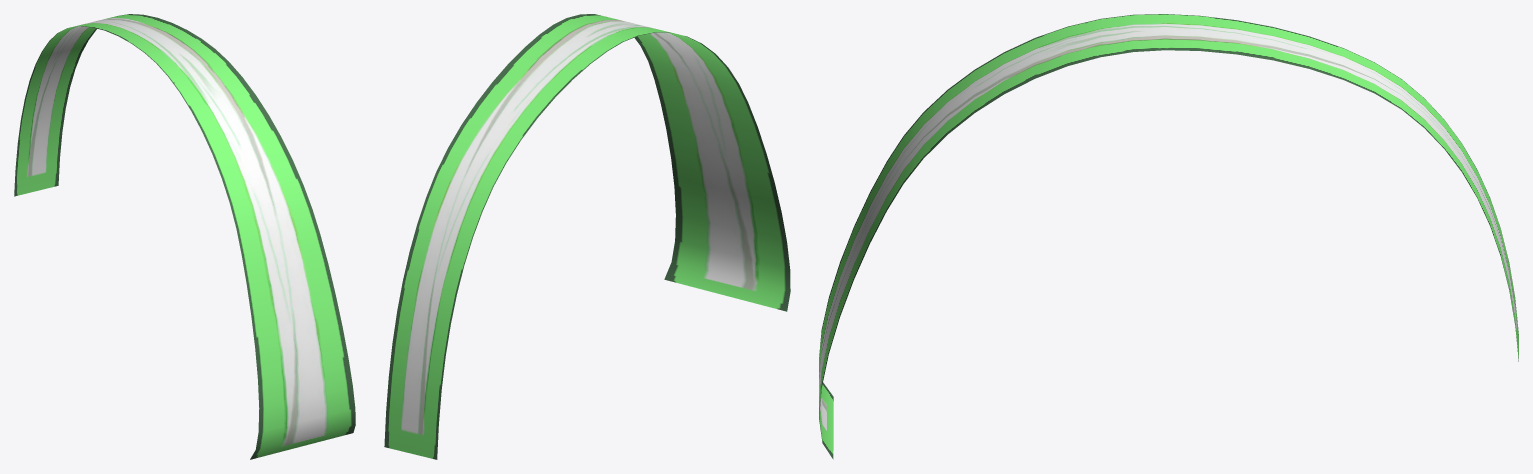
Rendered from piaodai_4.FBX.
The picture shows the model from 3 angles, left to right: view 1: azimuth 30°, elevation 25°; view 2: azimuth 150°, elevation 25°; view 3: azimuth 270°, elevation 25°; orthographic projection. The views are drawn at different scales.
Parts seen in each view (by area): view 1: Plane007; view 2: Plane007; view 3: Plane007.
Part boxes in pixels (bbox=[...]): Plane007: bbox=[14, 14, 355, 459]; Plane007: bbox=[384, 14, 790, 459]; Plane007: bbox=[819, 14, 1518, 459].
Size of the model in its own units: 76.31 by 216 by 346.
